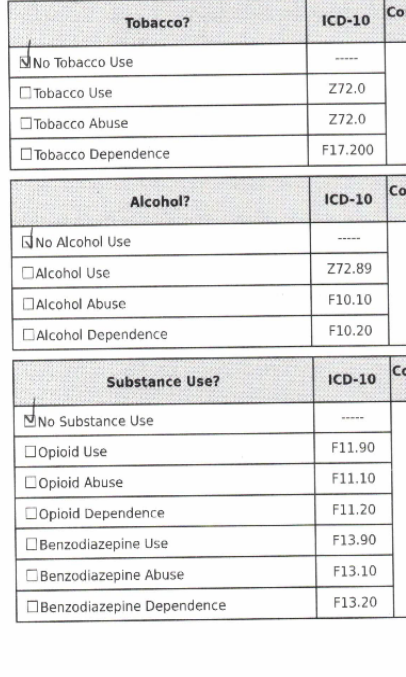checked: (18, 407, 40, 431), (16, 46, 34, 72), (19, 226, 36, 253)
